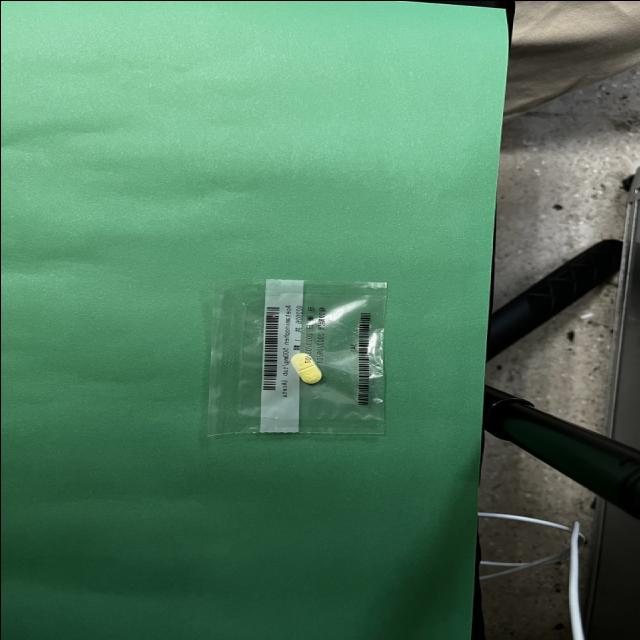Other Objects: (206, 278, 387, 436)
